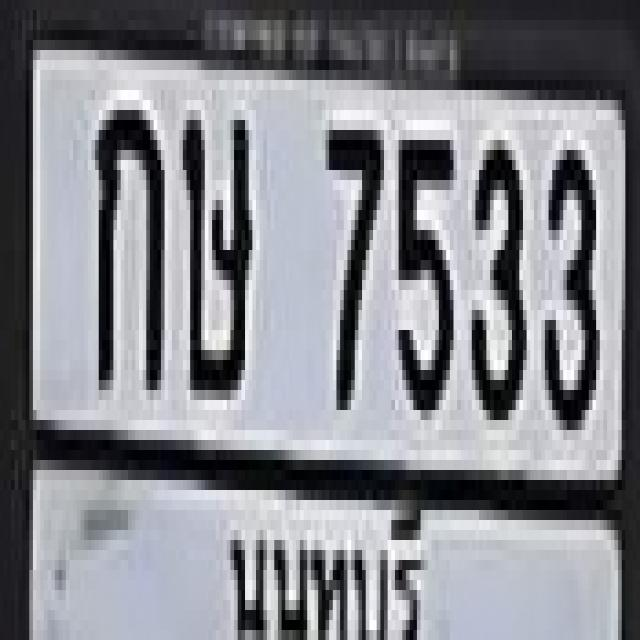3: (468, 130, 523, 410), (542, 140, 592, 420)
5: (395, 130, 450, 400)
7: (322, 120, 380, 400)
A01: (91, 100, 161, 380)
A39: (179, 100, 249, 390)
NBI: (215, 474, 431, 640)
